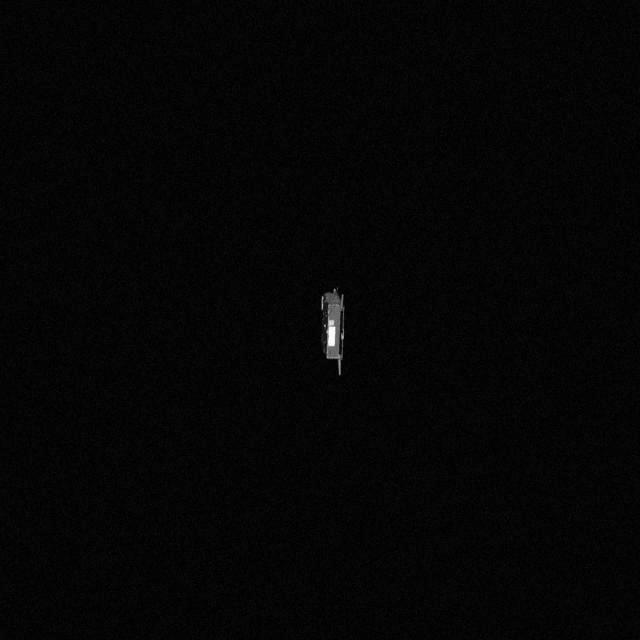medium_debris: (312, 288, 348, 370)
